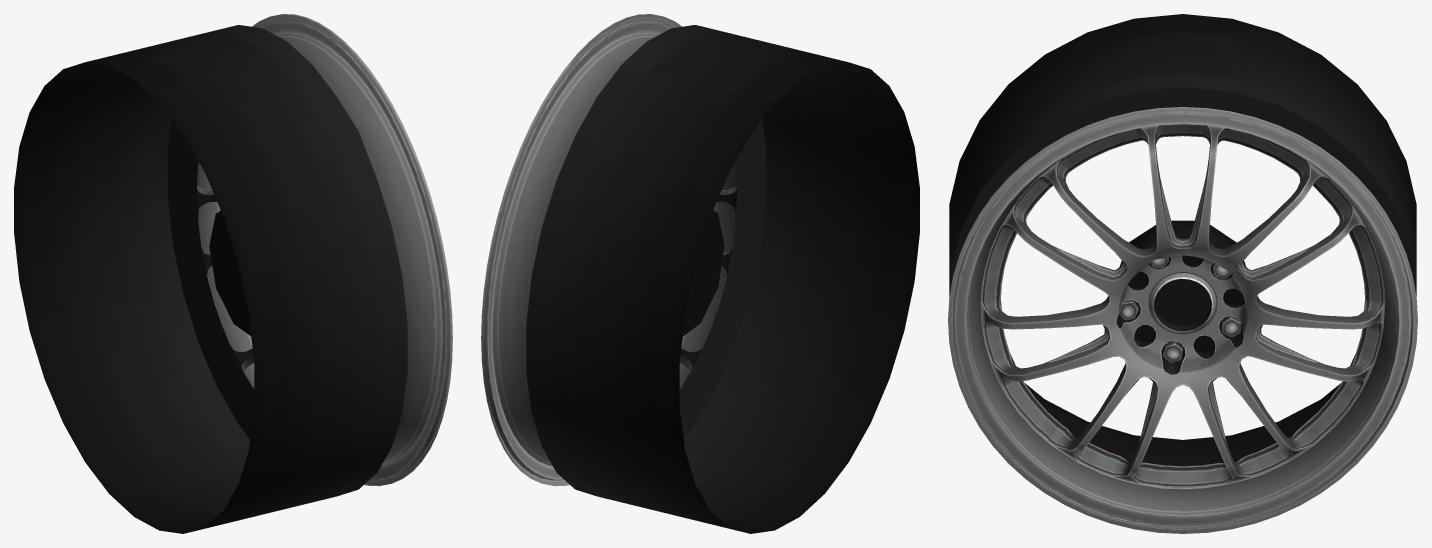
The model's file is wheel110.fbx.
3 renders of one model, left to right at view 1: azimuth 30°, elevation 25°; view 2: azimuth 150°, elevation 25°; view 3: azimuth 270°, elevation 25°, orthographic. The views are drawn at different scales.
Parts seen in each view (by area): view 1: vol_re30_wheel_wheel_inner_rim_, vol_re30_wheel_wheel_rim_, vol_re30_wheel_wheel_blur_lip_; view 2: vol_re30_wheel_wheel_inner_rim_, vol_re30_wheel_wheel_blur_lip_, vol_re30_wheel_wheel_rim_; view 3: vol_re30_wheel_wheel_rim_, vol_re30_wheel_wheel_inner_rim_, vol_re30_wheel_wheel_blur_lip_.
Boxes of the visible parts, bbox=[...] form: vol_re30_wheel_wheel_inner_rim_: bbox=[14, 25, 407, 533]; vol_re30_wheel_wheel_rim_: bbox=[197, 14, 450, 485]; vol_re30_wheel_wheel_blur_lip_: bbox=[197, 14, 452, 486]; vol_re30_wheel_wheel_inner_rim_: bbox=[526, 25, 919, 533]; vol_re30_wheel_wheel_blur_lip_: bbox=[481, 14, 736, 484]; vol_re30_wheel_wheel_rim_: bbox=[483, 14, 736, 486]; vol_re30_wheel_wheel_rim_: bbox=[950, 107, 1413, 531]; vol_re30_wheel_wheel_inner_rim_: bbox=[949, 14, 1416, 466]; vol_re30_wheel_wheel_blur_lip_: bbox=[948, 107, 1417, 533].
Bounding box in the file's own units: 0.2284 × 0.48 × 0.48.
1 material, 1 textured.
